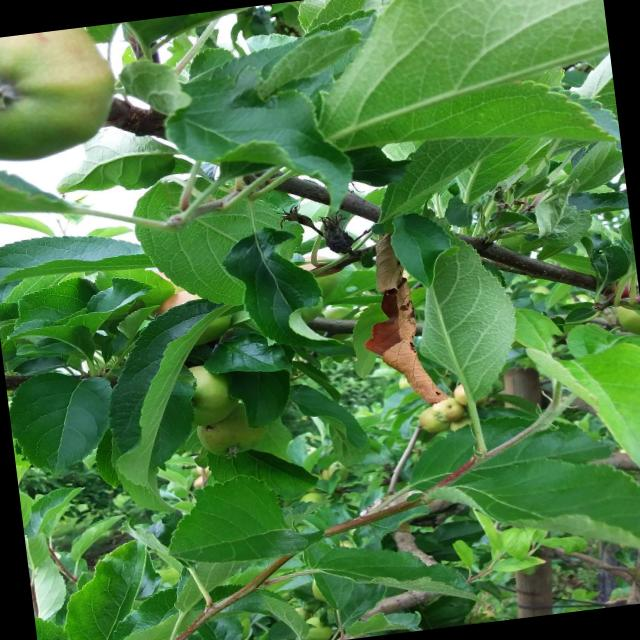-FireBlight-: (357, 225, 457, 412)
